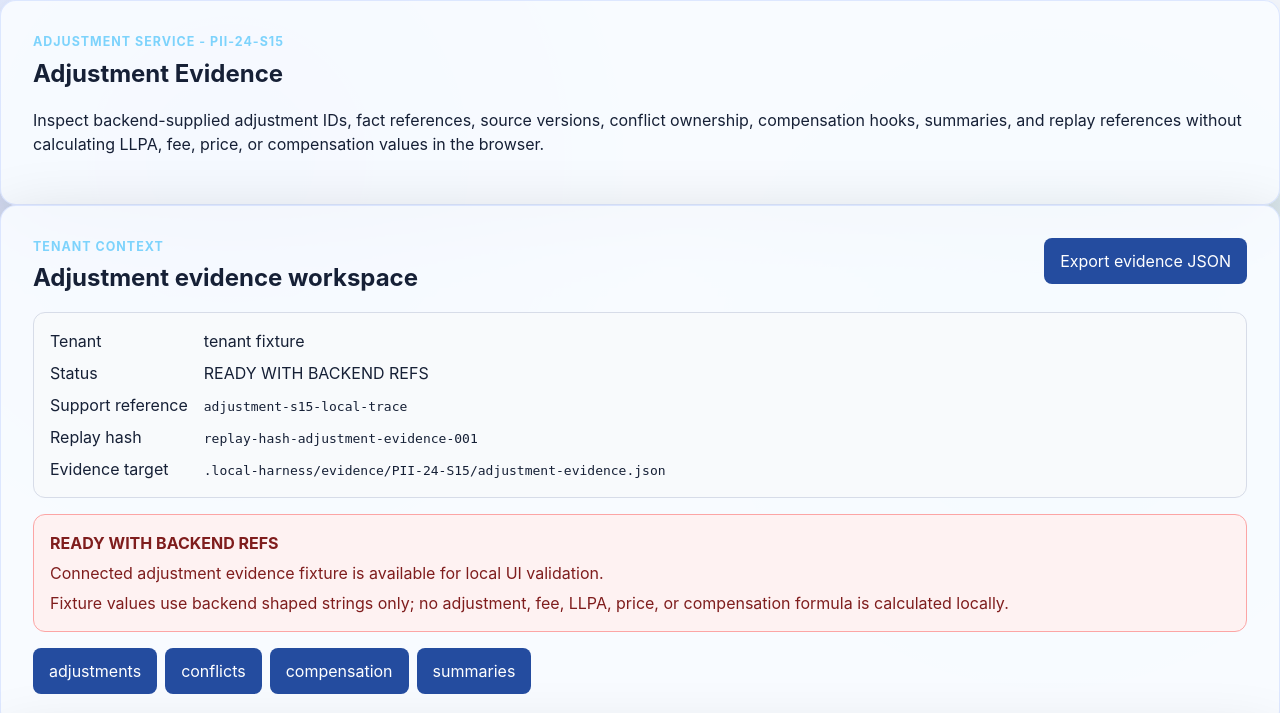
Test case: PII-24-S15 adjustment evidence screen › renders conflict ownership and assign affordance
The width and height of the screenshot is (1280, 713).
Click the button "conflicts": [213, 671] box 165,648 -> 262,694
(page scrolled)
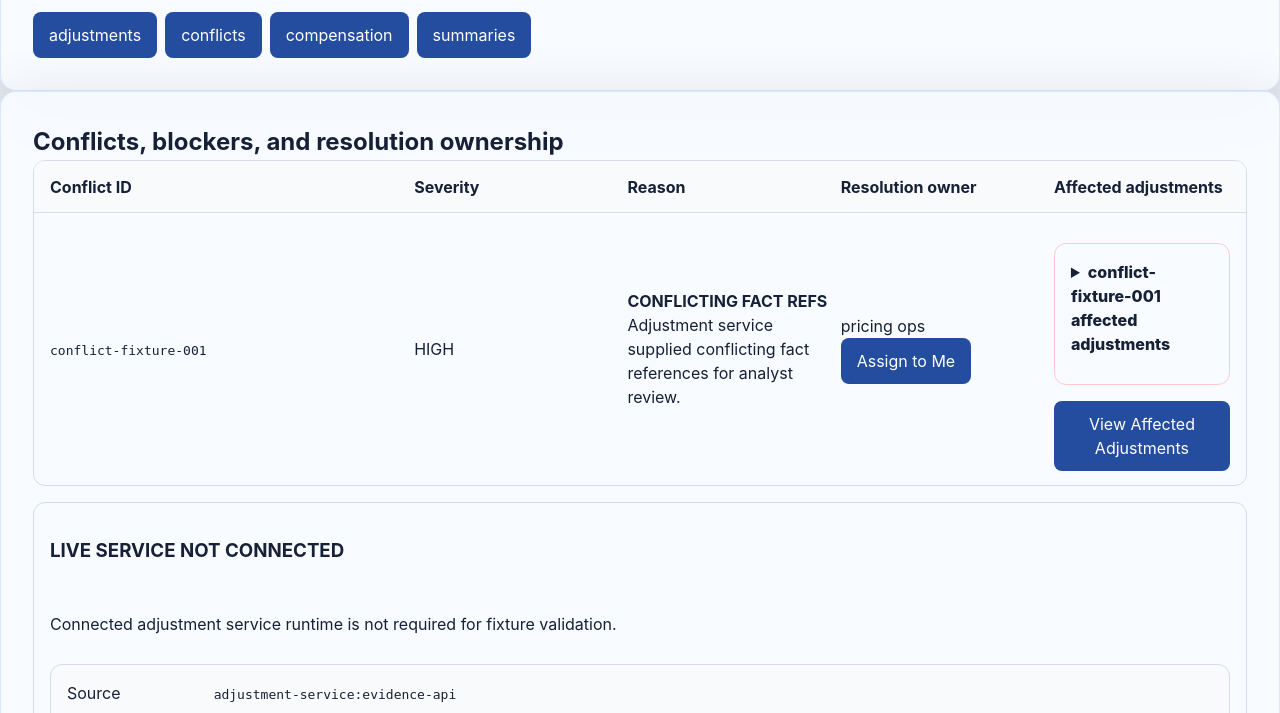
Check: the table named "Adjustment conflicts" shows "CONFLICTING FACT REFS", box 627,291 -> 827,311
Check: the text "pricing ops" is shown, box 841,316 -> 925,336
Check: the button with aria-label "Assign conflict-fixture-001 to me" is shown, box 841,338 -> 971,384
